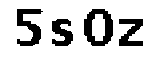0: (81, 5, 117, 51)
5: (13, 5, 45, 51)
s: (48, 16, 76, 49)
z: (117, 15, 147, 51)
